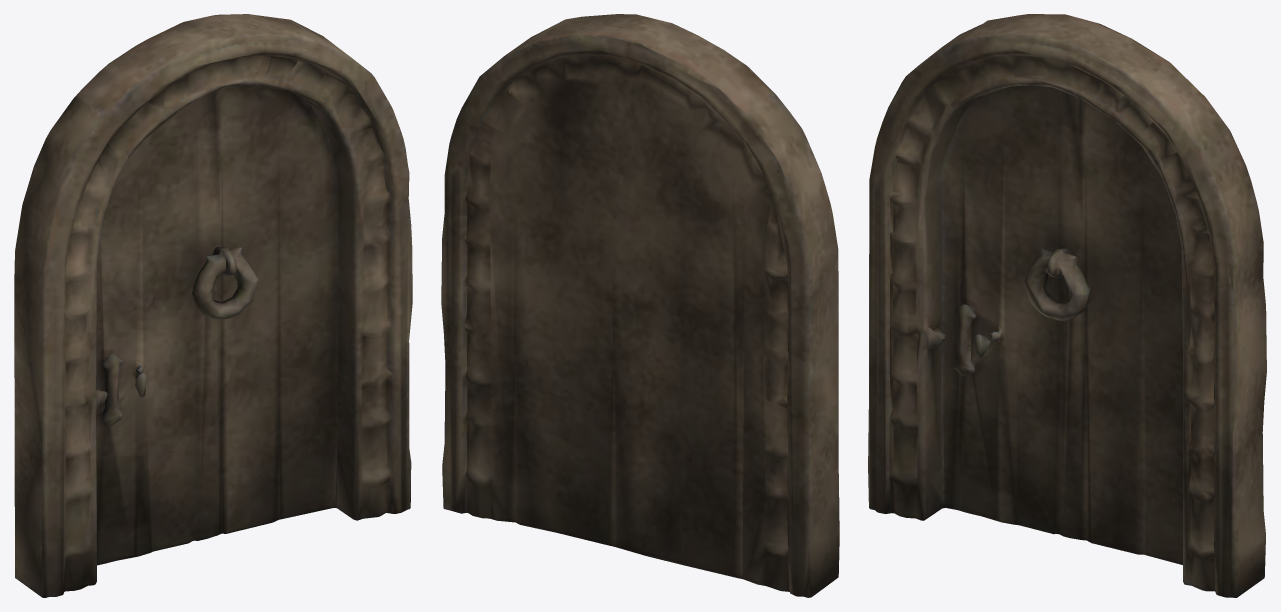
The model's file is worn-wood-castle-door-v002.glb.
3 views of the same model, side by side, from view 1: azimuth 30°, elevation 25°; view 2: azimuth 150°, elevation 25°; view 3: azimuth 330°, elevation 25° (orthographic).
Parts seen in each view (by area): view 1: worn-wood-castle-door; view 2: worn-wood-castle-door; view 3: worn-wood-castle-door.
Part boxes in pixels (x1,y1,x2,y2): worn-wood-castle-door: (14, 14, 412, 597); worn-wood-castle-door: (441, 14, 839, 597); worn-wood-castle-door: (868, 14, 1266, 597).
Bounding box in the file's own units: 1.65 × 2.2 × 0.2843.
Materials: 1 (1 with a texture image).
